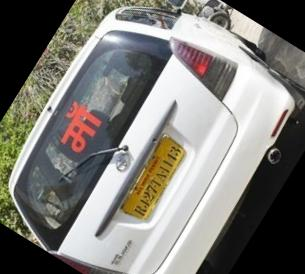plate: (100, 114, 209, 241)
